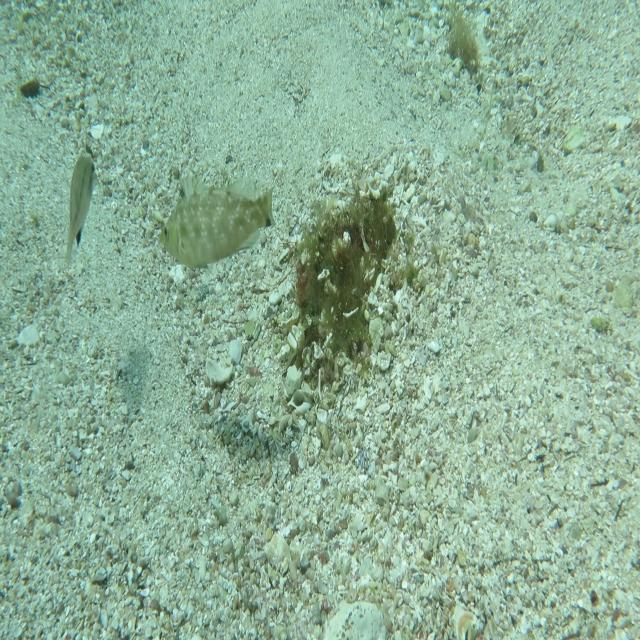CHASE_FLEE: (158, 145, 278, 276)
female: (65, 150, 99, 271)
nest: (272, 175, 417, 412)
